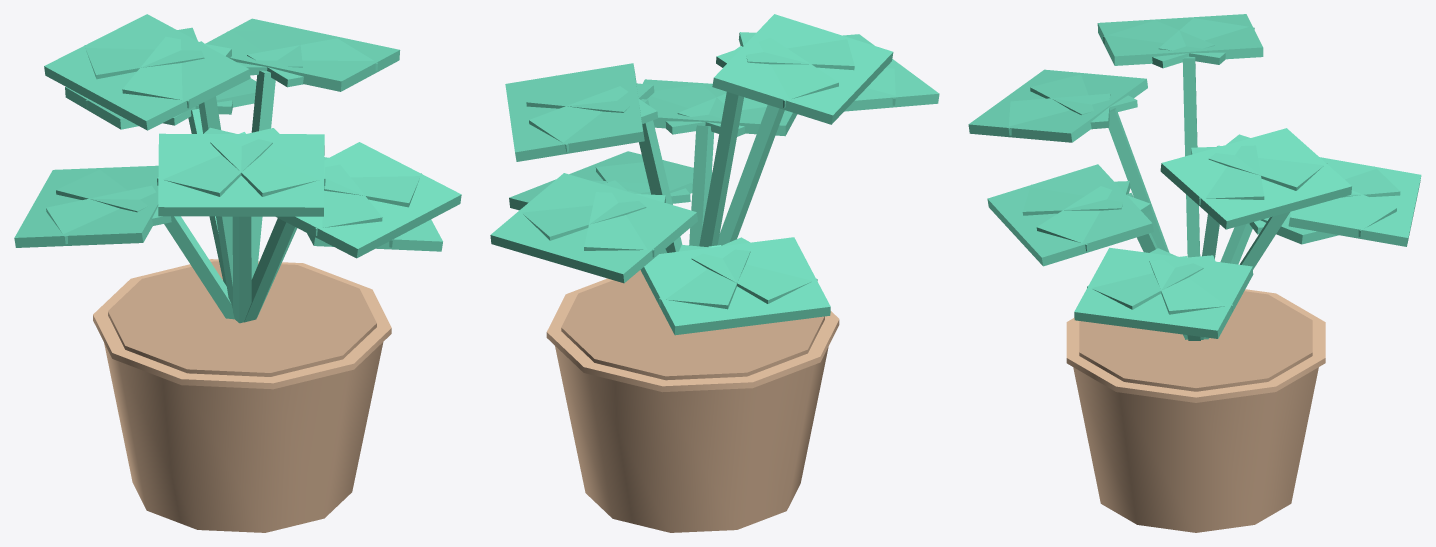
The model's file is plantMonstera.glb.
3 views of the same model, side by side, from view 1: azimuth 30°, elevation 25°; view 2: azimuth 150°, elevation 25°; view 3: azimuth 270°, elevation 25° (orthographic). The views are drawn at different scales.
Parts seen in each view (by area): view 1: plantMonstera; view 2: plantMonstera; view 3: plantMonstera.
Part boxes in pixels (x1,y1,x2,y2): plantMonstera: (14, 14, 461, 532); plantMonstera: (490, 14, 939, 532); plantMonstera: (968, 14, 1421, 532).
Bounding box in the file's own units: 0.3767 × 0.4599 × 0.4524.
